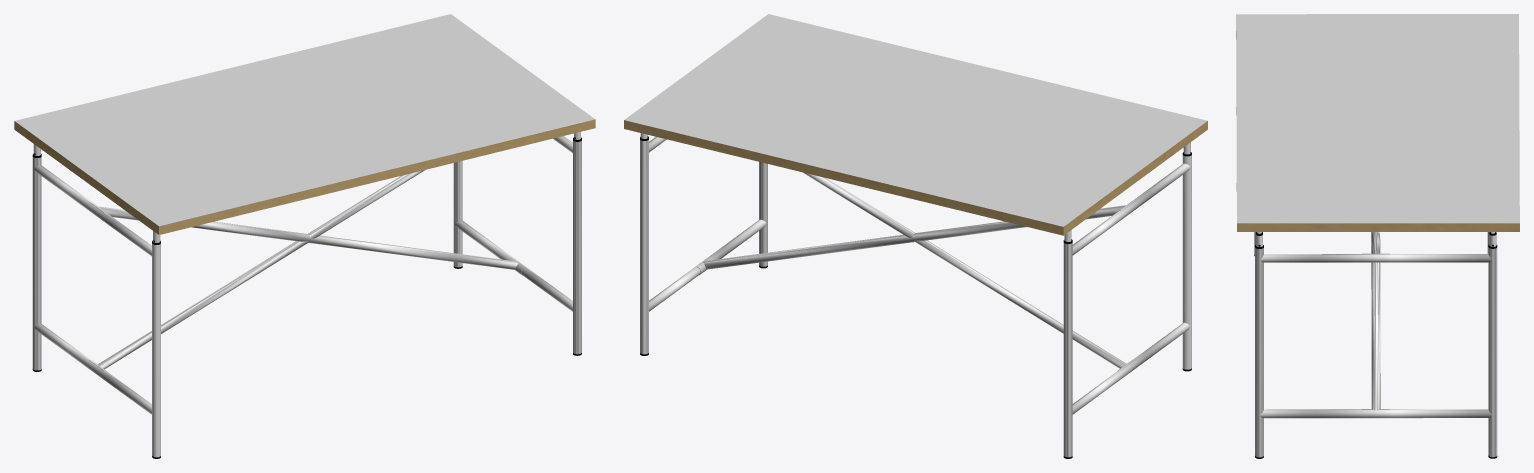
The model's file is Tisch.gltf.
3 renders of one model, left to right at view 1: azimuth 30°, elevation 25°; view 2: azimuth 150°, elevation 25°; view 3: azimuth 270°, elevation 25°, orthographic. The views are drawn at different scales.
Parts seen in each view (by area): view 1: Komponente; view 2: Komponente; view 3: Komponente.
Part boxes in pixels (box(x1,y1,x2,y2)): Komponente: box(14, 14, 595, 458); Komponente: box(624, 14, 1207, 458); Komponente: box(1236, 14, 1519, 458).
Size of the model in its own units: 1.4 by 0.739 by 0.8026.
5 materials, 2 textured.
